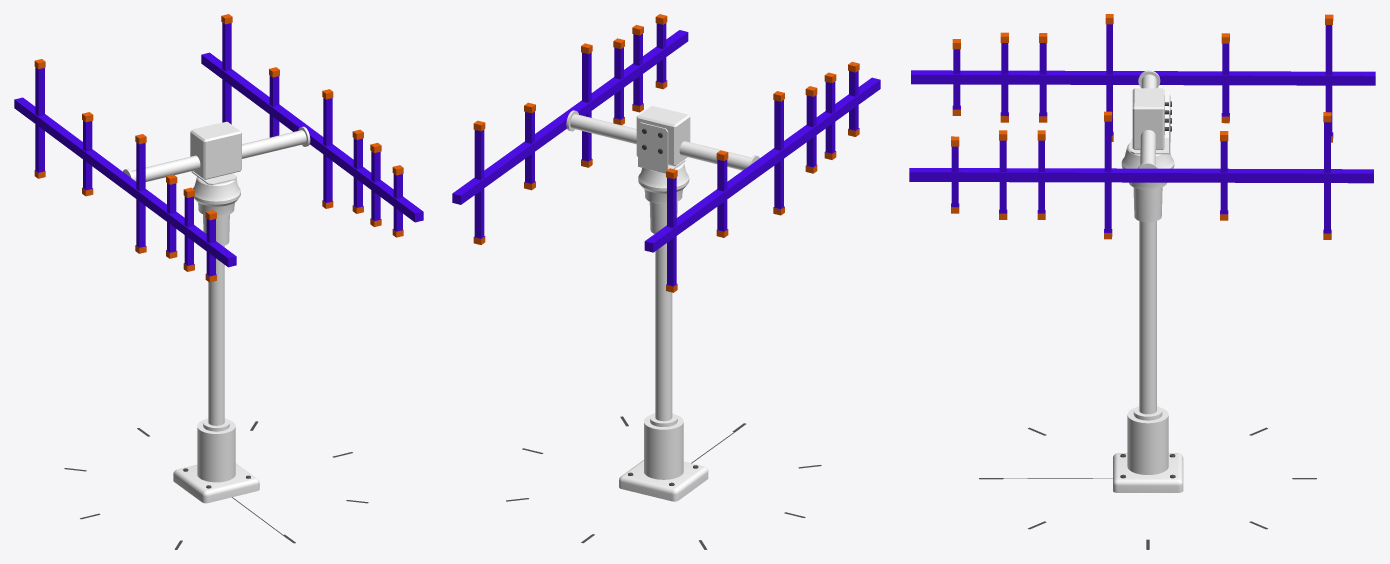
The picture shows the model from 3 angles, left to right: view 1: azimuth 30°, elevation 25°; view 2: azimuth 150°, elevation 25°; view 3: azimuth 270°, elevation 25°; orthographic projection. The views are drawn at different scales.
Parts seen in each view (by area): view 1: Cylinder004_1, Cylinder002_1, Cylinder003_1, Cylinder004_2, Cylinder004; view 2: Cylinder004_1, Cylinder002_1, Cylinder003_1, Cylinder004_2, Cylinder004; view 3: Cylinder004_1, Cylinder002_1, Cylinder003_1, Cylinder004_2, Cylinder004.
Boxes of the visible parts, bbox=[...] form: Cylinder004_1: bbox=[14, 22, 423, 276]; Cylinder002_1: bbox=[173, 202, 259, 503]; Cylinder003_1: bbox=[190, 121, 241, 206]; Cylinder004_2: bbox=[34, 14, 403, 282]; Cylinder004: bbox=[123, 126, 310, 181]; Cylinder004_1: bbox=[452, 23, 880, 286]; Cylinder002_1: bbox=[619, 189, 708, 501]; Cylinder003_1: bbox=[636, 105, 690, 193]; Cylinder004_2: bbox=[473, 14, 859, 292]; Cylinder004: bbox=[566, 110, 759, 170]; Cylinder004_1: bbox=[909, 24, 1375, 233]; Cylinder002_1: bbox=[1113, 182, 1183, 492]; Cylinder003_1: bbox=[1121, 88, 1174, 168]; Cylinder004_2: bbox=[951, 14, 1333, 239]; Cylinder004: bbox=[1138, 70, 1160, 183].
Bounding box in the file's own units: 9.63 × 13.02 × 13.3.
